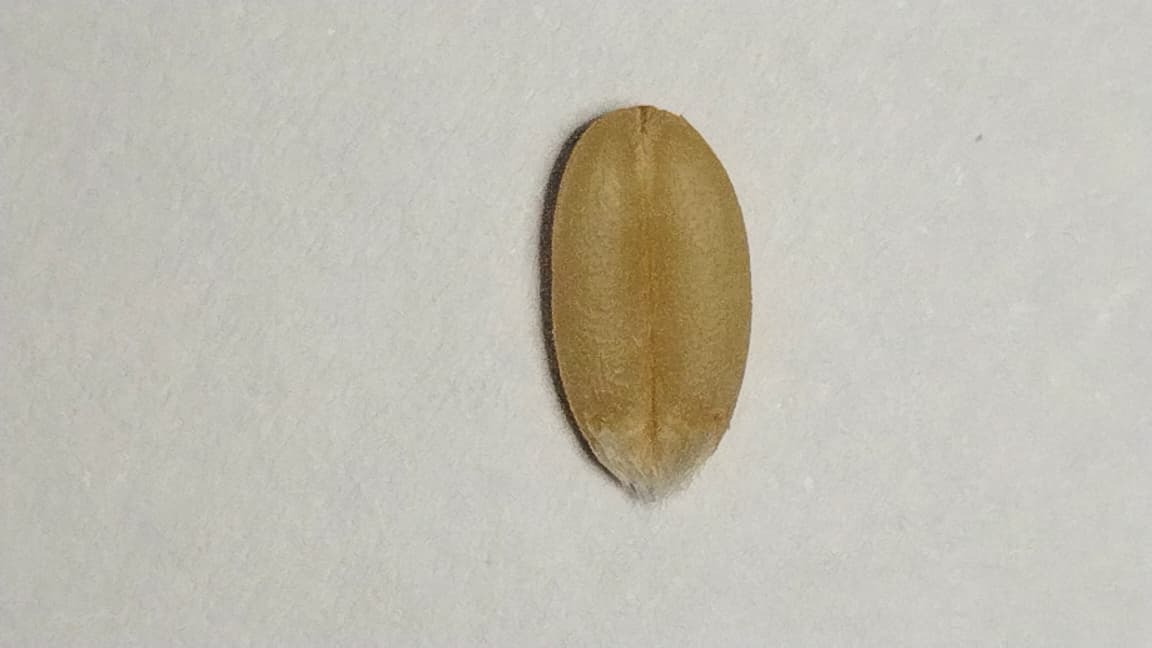healthy: (548, 107, 751, 474)
